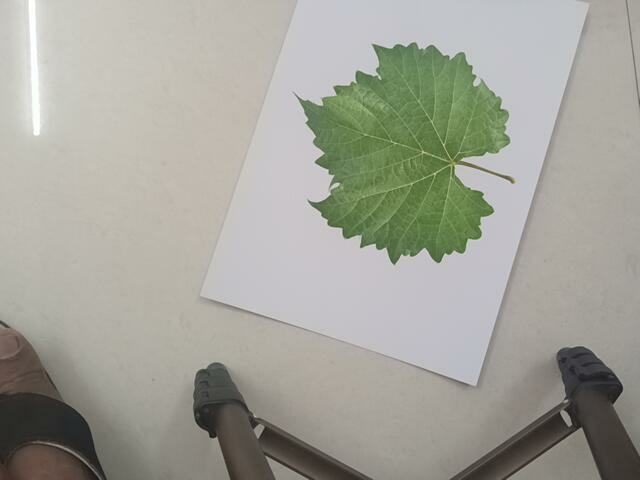Grape_Healthy: (291, 42, 519, 266)
